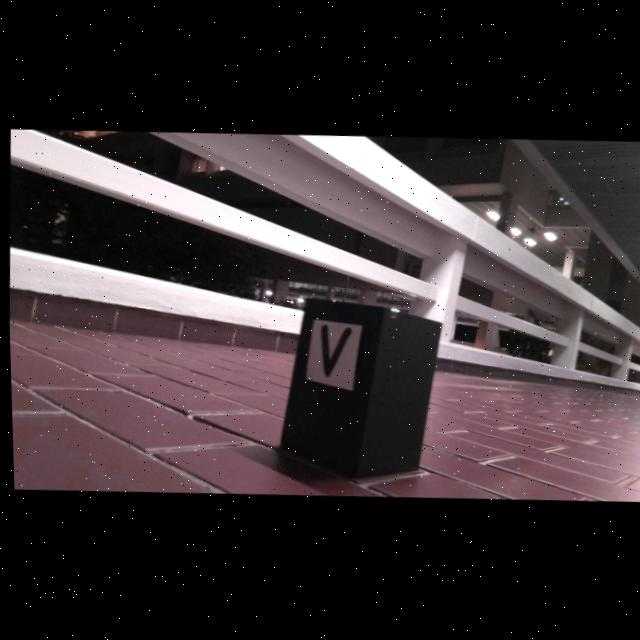V: (318, 326, 349, 376)
